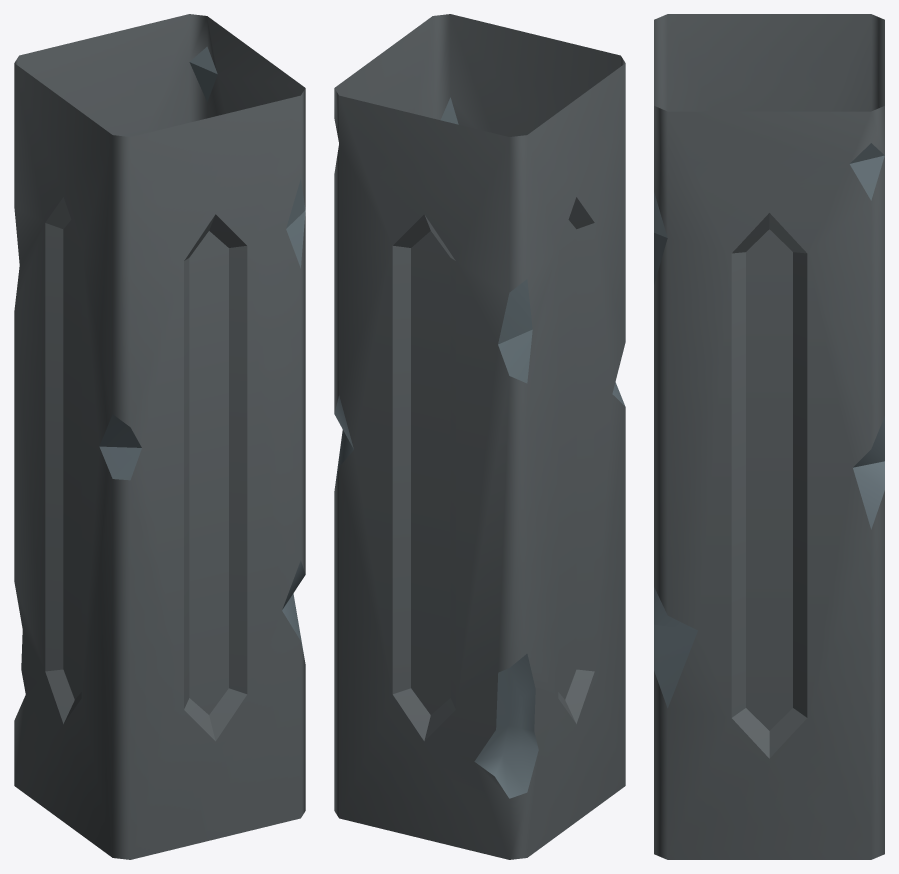
The model's file is pillar_014.glb.
3 views of the same model, side by side, from view 1: azimuth 30°, elevation 25°; view 2: azimuth 150°, elevation 25°; view 3: azimuth 270°, elevation 25° (orthographic). The views are drawn at different scales.
Parts seen in each view (by area): view 1: pillar_014; view 2: pillar_014; view 3: pillar_014.
Boxes of the visible parts, <box> form: pillar_014: <box>14,14,305,859</box>; pillar_014: <box>334,14,625,859</box>; pillar_014: <box>654,14,884,859</box>.
Size of the model in its own units: 2.79 by 10 by 2.79.
Materials: 1 (1 with a texture image).
